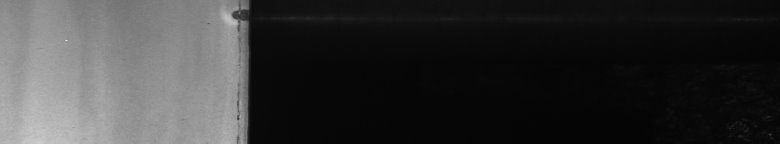hb: (222, 4, 236, 31)
